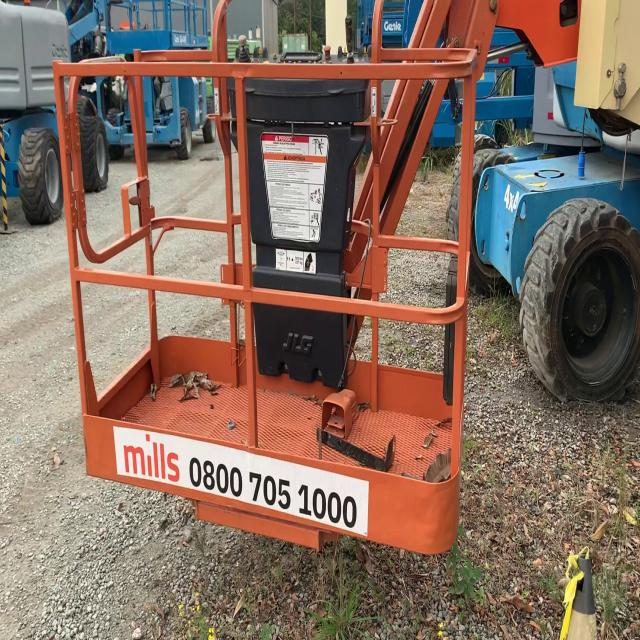Adesivo Longo: (112, 423, 370, 539)
